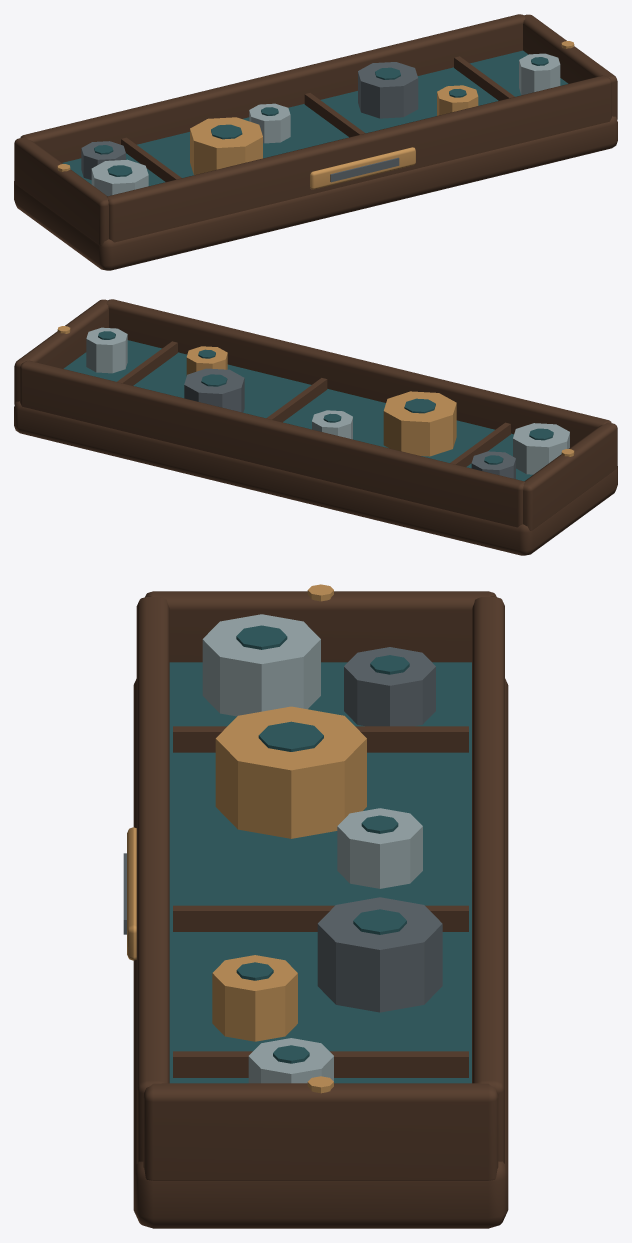
The model's file is w2b-rook-counter-drawer.glb.
The picture shows the model from 3 angles, top to bottom: view 1: azimuth 30°, elevation 25°; view 2: azimuth 150°, elevation 25°; view 3: azimuth 270°, elevation 25°; orthographic projection. The views are drawn at different scales.
Visible parts, largest first — view 1: Fixture | Forge | Ebonised oak.002, Fixture | Forge | Deep petrol lining.001, Fixture | Fixture | Brushed brass.002, Fixture | Forge I | Dark forged iron.001, Fixture | Forge II | Bright steel.001; view 2: Fixture | Forge | Ebonised oak.002, Fixture | Forge | Deep petrol lining.001, Fixture | Fixture | Brushed brass.002, Fixture | Forge II | Bright steel.001, Fixture | Forge I | Dark forged iron.001; view 3: Fixture | Forge | Ebonised oak.002, Fixture | Forge | Deep petrol lining.001, Fixture | Fixture | Brushed brass.002, Fixture | Forge II | Bright steel.001, Fixture | Forge I | Dark forged iron.001.
Part boxes in pixels (x1,y1,x2,y2): Fixture | Forge | Ebonised oak.002: [14, 14, 617, 270]; Fixture | Forge | Deep petrol lining.001: [62, 50, 568, 185]; Fixture | Fixture | Brushed brass.002: [57, 41, 574, 189]; Fixture | Forge I | Dark forged iron.001: [81, 62, 418, 182]; Fixture | Forge II | Bright steel.001: [91, 53, 560, 196]; Fixture | Forge | Ebonised oak.002: [14, 299, 617, 555]; Fixture | Forge | Deep petrol lining.001: [63, 331, 553, 481]; Fixture | Fixture | Brushed brass.002: [57, 326, 574, 456]; Fixture | Forge II | Bright steel.001: [86, 327, 569, 474]; Fixture | Forge I | Dark forged iron.001: [184, 368, 515, 479]; Fixture | Forge | Ebonised oak.002: [133, 591, 508, 1228]; Fixture | Forge | Deep petrol lining.001: [169, 625, 471, 1083]; Fixture | Fixture | Brushed brass.002: [127, 584, 366, 1093]; Fixture | Forge II | Bright steel.001: [202, 614, 422, 1083]; Fixture | Forge I | Dark forged iron.001: [123, 647, 442, 1012].
Size of the model in its own units: 0.364 by 0.0515 by 0.117.
